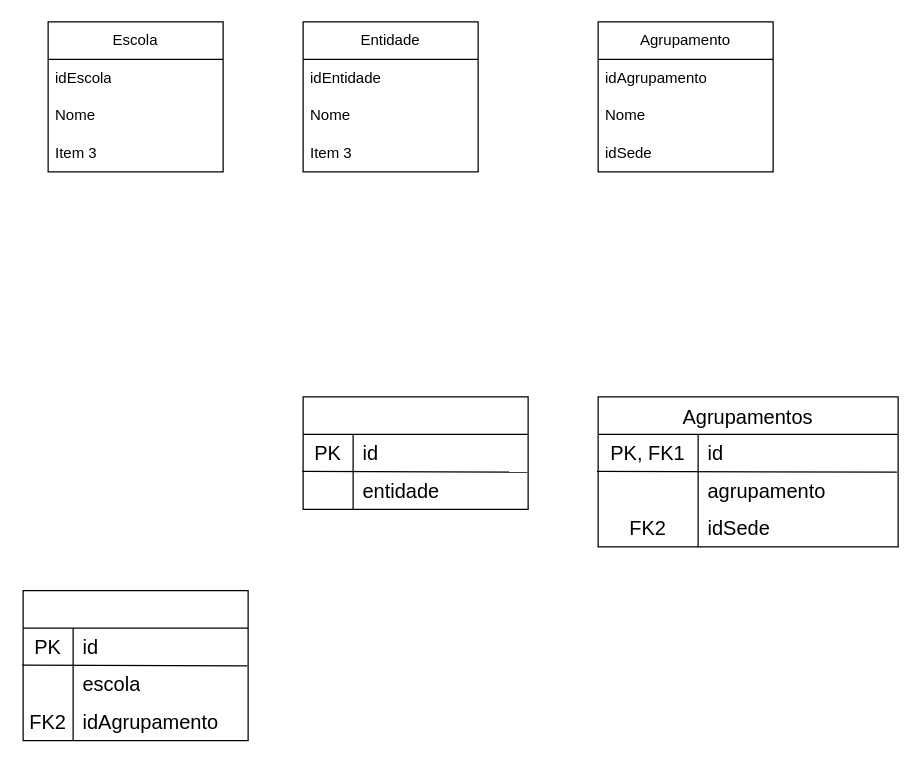
Image size: 920x763. Some labels were removed from this diagram. Each missing label, with the box of its shape:
Entidades: (302, 396, 528, 509)
Escolas: (22, 589, 248, 741)
